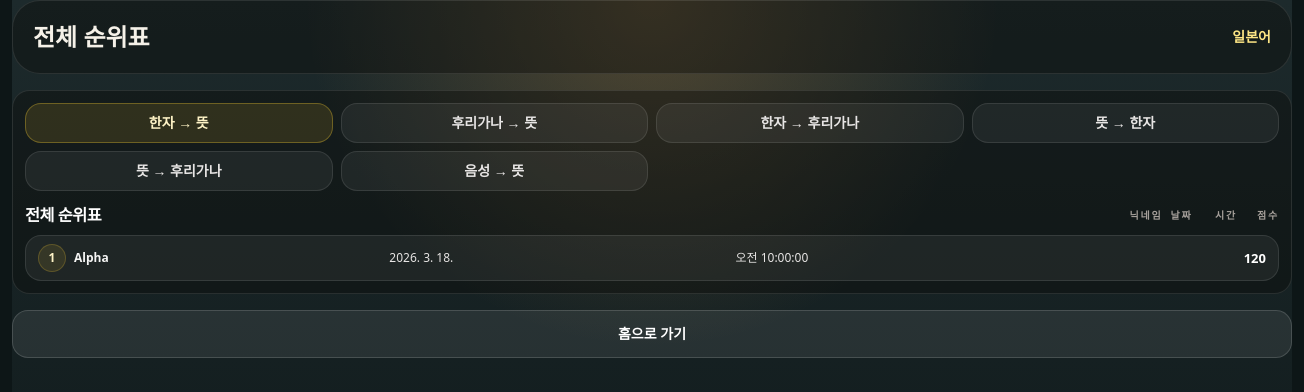
OverallLeaderboardPage › shows global top 50 entries filtered by quiz mode
Expected: the heading "전체 순위표" in the row of "일본어" is shown, [33, 20, 150, 53]
Expected: the text "Alpha" is shown, [74, 250, 109, 266]
Click the button "뜻 → 한자" at [1125, 123], box [972, 103, 1279, 143]
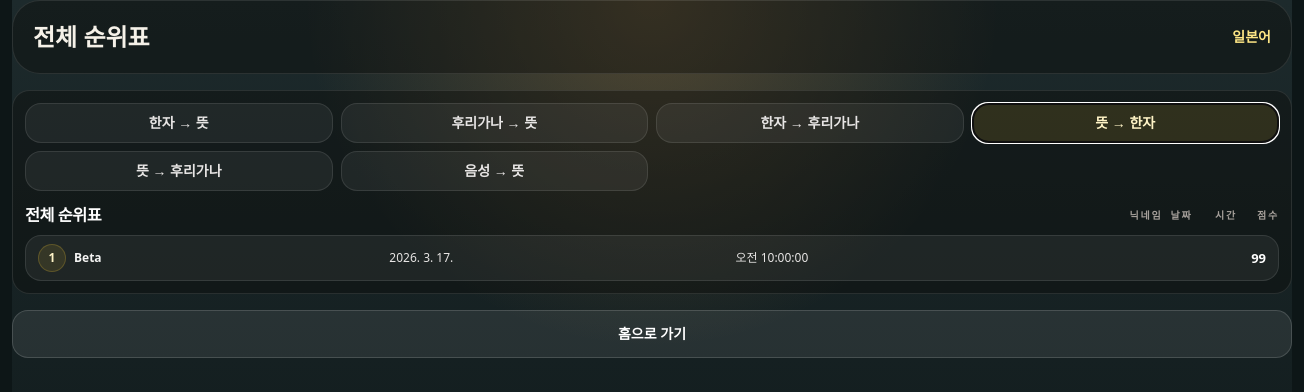
Now the text "Beta" is shown, box [74, 250, 102, 266]
